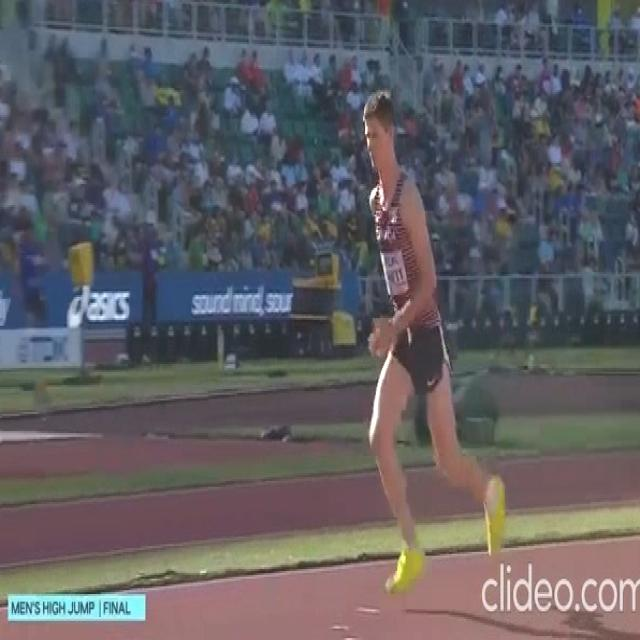run: (356, 86, 506, 564)
